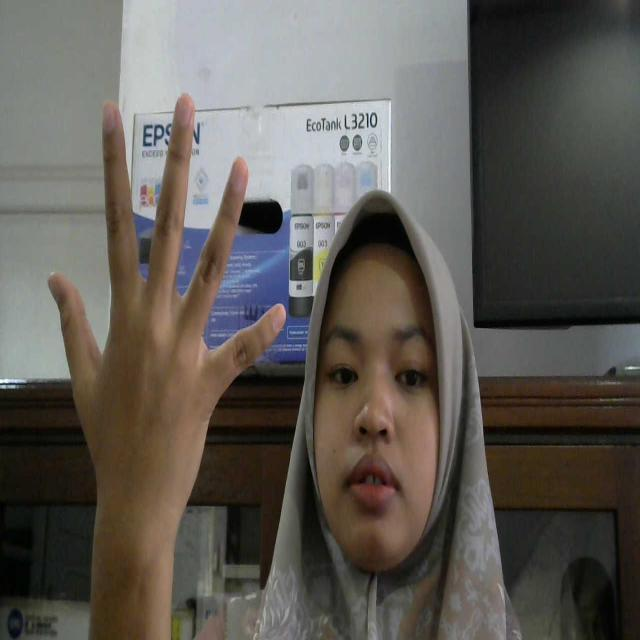hand: (49, 91, 288, 559)
